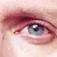eye: (29, 25, 43, 34)
